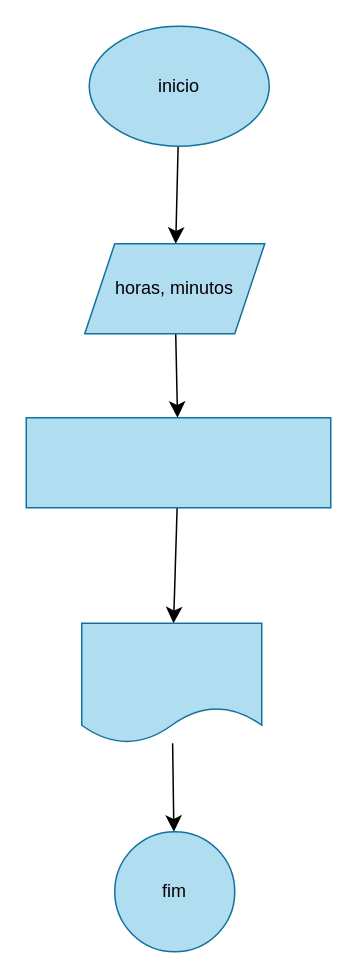
Some shapes in this 357 by 978 pixel diagram are drawn without their labels. Each missing label, with the centre of its shape:
"convmin = (min/60) resultado = hora + convmin" goes at (178,462).
"resultado" goes at (171,682).
